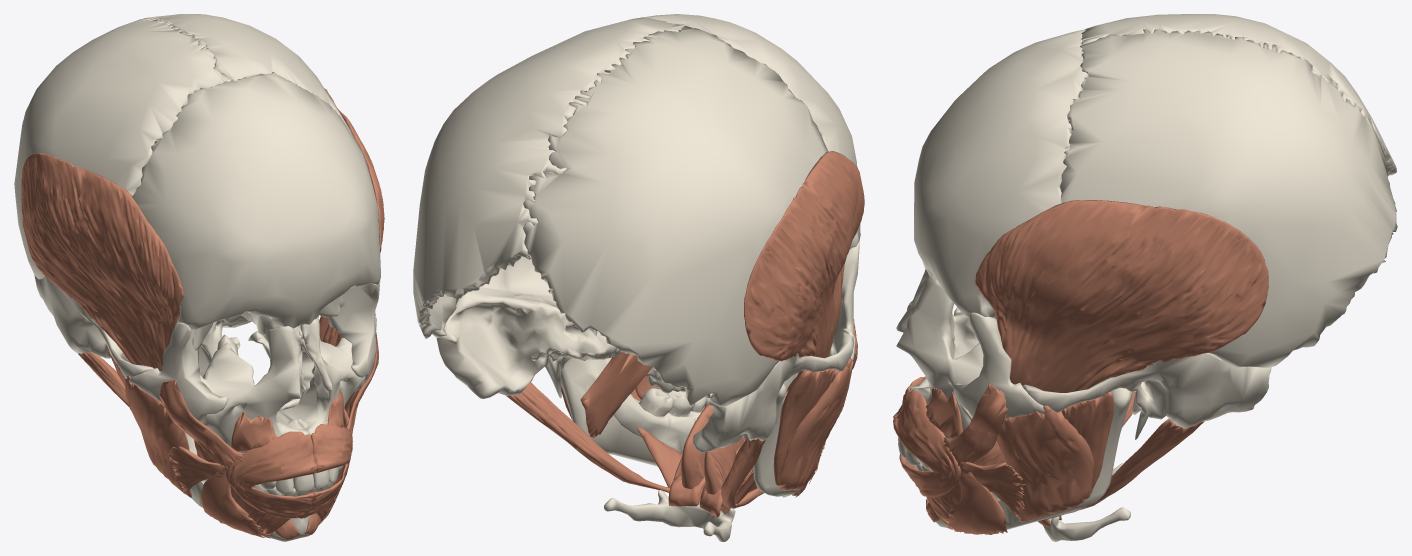
Rendered from motion-jaw.glb.
The picture shows the model from 3 angles, left to right: view 1: azimuth 30°, elevation 25°; view 2: azimuth 150°, elevation 25°; view 3: azimuth 270°, elevation 25°; orthographic projection. The views are drawn at different scales.
Parts seen in each view (by area): view 1: Frontal bone.001, Parietal bone.r.001, Temporalis muscle.r.001, Maxilla.r.001, Parietal bone.l.001, Orbicularis oris muscle.r.001, Maxilla.l.001, Zygomatic bone.r.001, Temporal bone.r.001, Superficial part of masseter.r.001, Zygomatic bone.l.001, Orbicularis oris muscle.l.001 (+11 smaller); view 2: Parietal bone.r.001, Parietal bone.l.001, Temporalis muscle.r.001, Temporal bone.l.001, Mandible.001, Frontal bone.001, Temporal bone.r.001, Superficial part of masseter.r.001, Posterior belly of digastric muscle.l.001, Medial pterygoid muscle.l.001, Hyoid bone.001, Deep part of masseter.r.001 (+7 smaller); view 3: Parietal bone.l.001, Temporalis muscle.l.001, Frontal bone.001, Temporal bone.l.001, Superficial part of masseter.l.001, Parietal bone.r.001, Maxilla.l.001, Orbicularis oris muscle.l.001, Zygomatic bone.l.001, Zygomaticus major muscle.l.001, Depressor anguli oris.l.001, Mandible.001 (+7 smaller).
Part boxes in pixels (left/top/right/bottom): Frontal bone.001: left=132, top=73, right=380, bottom=339; Parietal bone.r.001: left=14, top=17, right=231, bottom=279; Temporalis muscle.r.001: left=21, top=153, right=183, bottom=371; Maxilla.r.001: left=200, top=326, right=310, bottom=452; Parietal bone.l.001: left=143, top=14, right=353, bottom=136; Orbicularis oris muscle.r.001: left=226, top=431, right=317, bottom=518; Maxilla.l.001: left=280, top=317, right=365, bottom=435; Zygomatic bone.r.001: left=129, top=322, right=228, bottom=422; Temporal bone.r.001: left=34, top=275, right=153, bottom=378; Superficial part of masseter.r.001: left=125, top=375, right=191, bottom=497; Zygomatic bone.l.001: left=328, top=280, right=380, bottom=382; Orbicularis oris muscle.l.001: left=303, top=424, right=352, bottom=518; Parietal bone.r.001: left=523, top=26, right=828, bottom=406; Parietal bone.l.001: left=413, top=17, right=684, bottom=338; Temporalis muscle.r.001: left=744, top=151, right=864, bottom=392; Temporal bone.l.001: left=436, top=256, right=621, bottom=398; Mandible.001: left=561, top=357, right=800, bottom=497; Frontal bone.001: left=642, top=14, right=860, bottom=248; Temporal bone.r.001: left=693, top=332, right=854, bottom=452; Superficial part of masseter.r.001: left=776, top=358, right=853, bottom=490; Posterior belly of digastric muscle.l.001: left=506, top=382, right=669, bottom=492; Medial pterygoid muscle.l.001: left=580, top=352, right=652, bottom=438; Hyoid bone.001: left=604, top=490, right=735, bottom=541; Deep part of masseter.r.001: left=773, top=369, right=838, bottom=484; Parietal bone.l.001: left=1060, top=29, right=1397, bottom=367; Temporalis muscle.l.001: left=975, top=200, right=1268, bottom=392; Frontal bone.001: left=914, top=29, right=1088, bottom=318; Temporal bone.l.001: left=1023, top=353, right=1271, bottom=439; Superficial part of masseter.l.001: left=996, top=405, right=1093, bottom=522; Parietal bone.r.001: left=1068, top=14, right=1396, bottom=176; Maxilla.l.001: left=896, top=276, right=983, bottom=438; Orbicularis oris muscle.l.001: left=893, top=388, right=960, bottom=497; Zygomatic bone.l.001: left=953, top=313, right=1045, bottom=418; Zygomaticus major muscle.l.001: left=942, top=383, right=1008, bottom=469; Depressor anguli oris.l.001: left=946, top=468, right=1007, bottom=534; Mandible.001: left=927, top=388, right=1132, bottom=529.
Size of the model in its own units: 0.1537 by 0.2139 by 0.1957.
